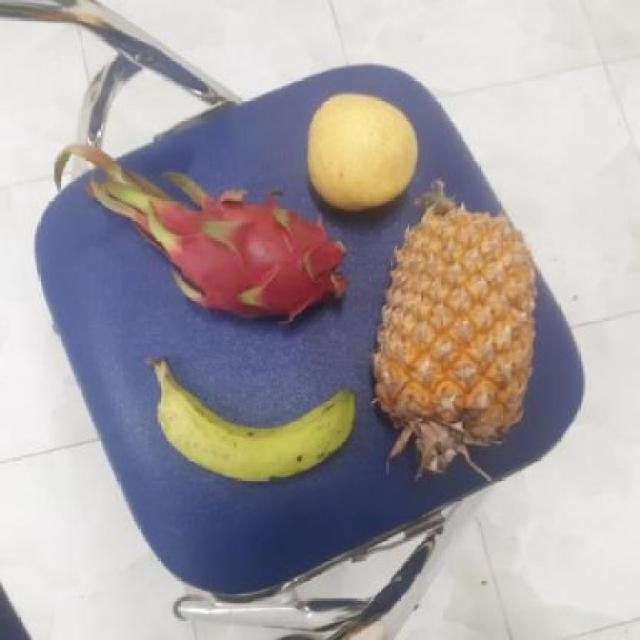banana: (138, 357, 352, 481)
dragon fruit: (142, 190, 347, 327)
pear: (302, 91, 422, 212)
pineapple: (369, 193, 534, 455)
